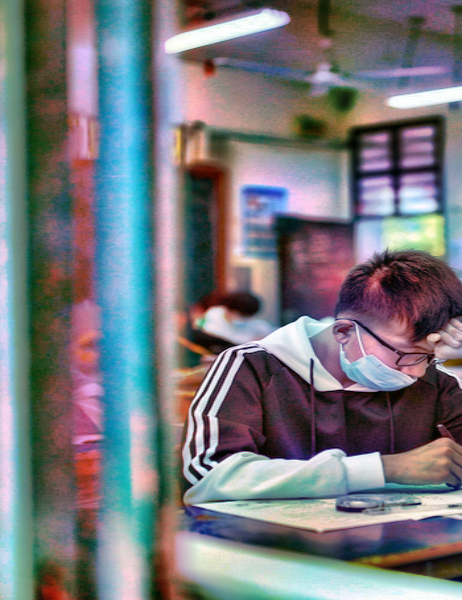mask_weared_incorrect: (341, 254, 458, 391)
